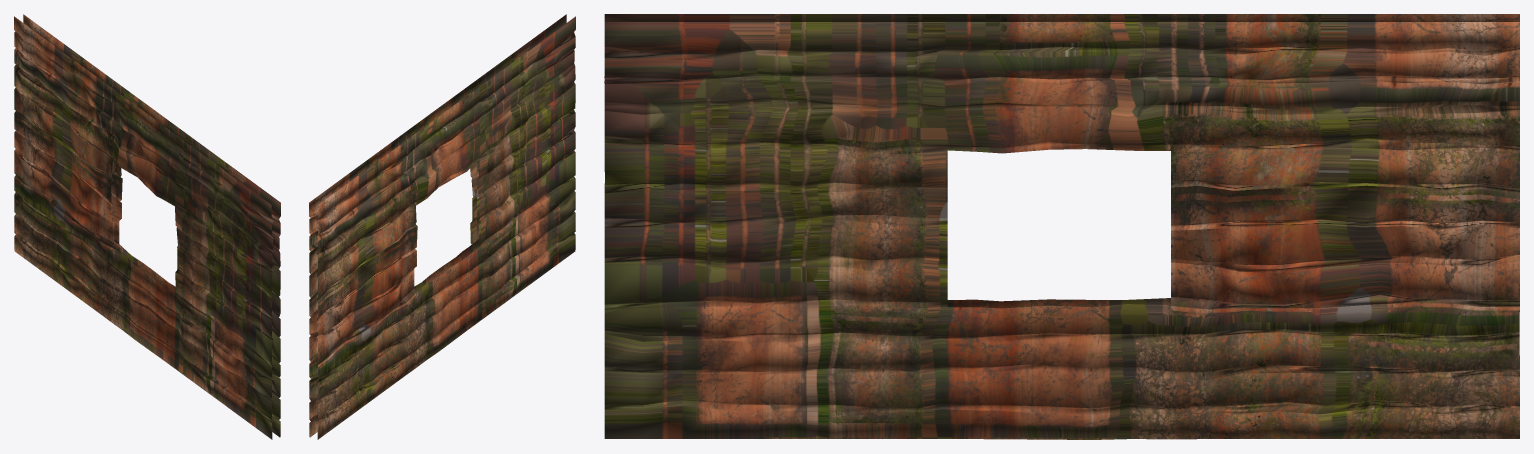
File: WallwWindow.fbx
3 renders of one model, left to right at view 1: azimuth 30°, elevation 25°; view 2: azimuth 150°, elevation 25°; view 3: azimuth 270°, elevation 25°, orthographic. The views are drawn at different scales.
Visible parts, largest first — view 1: WallwDoor; view 2: WallwDoor; view 3: WallwDoor.
Boxes of the visible parts, x1=… form: WallwDoor: x1=14, y1=14, x2=280, y2=439; WallwDoor: x1=309, y1=14, x2=575, y2=439; WallwDoor: x1=604, y1=14, x2=1519, y2=439.
Size of the model in its own units: 16.84 by 220 by 436.
